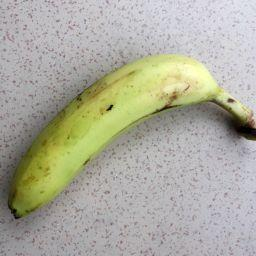Banana Ripe: (5, 52, 256, 227)
